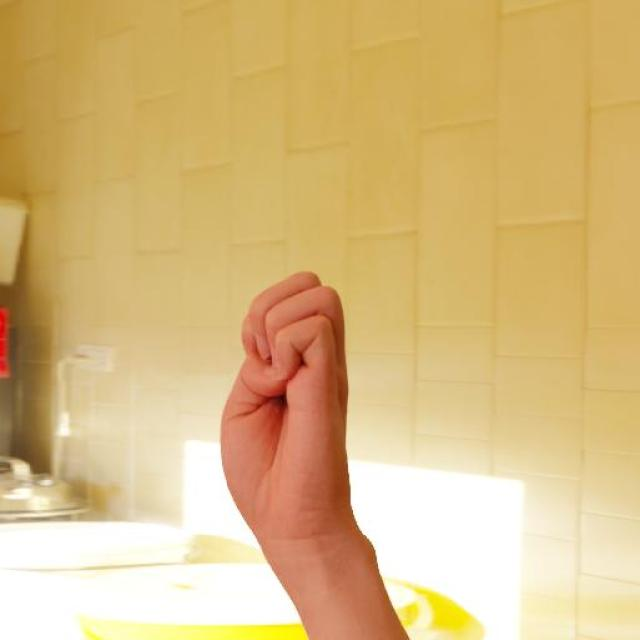E: (216, 266, 358, 533)
